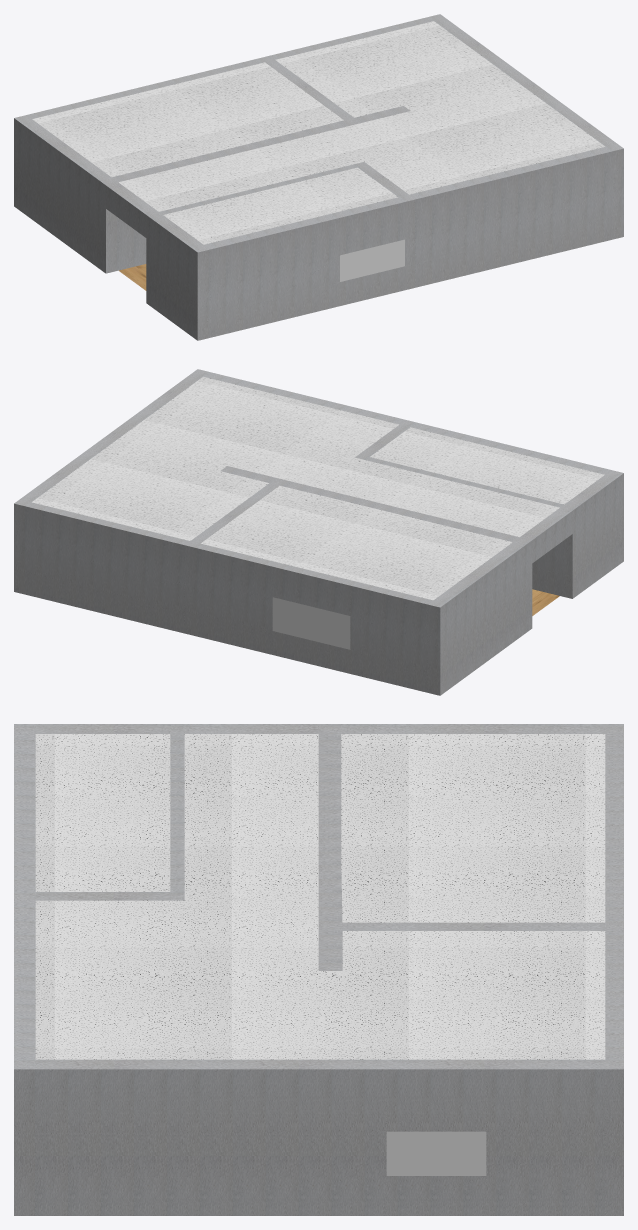
The model's file is rooms.fbx.
3 renders of one model, top to bottom at view 1: azimuth 30°, elevation 25°; view 2: azimuth 150°, elevation 25°; view 3: azimuth 270°, elevation 25°, orthographic. The views are drawn at different scales.
Visible parts, largest first — view 1: WALLS, Roof, Window Man; view 2: WALLS, Roof, Window Women; view 3: Roof, WALLS, Window Kitchen, Window Kitchen_cell.004, Window Kitchen_cell, Window Kitchen_cell.003.
Boxes of the visible parts, x1=… form: WALLS: x1=14, y1=14, x2=623, y2=340; Roof: x1=32, y1=21, x2=605, y2=244; Window Man: x1=340, y1=239, x2=404, y2=281; WALLS: x1=14, y1=369, x2=623, y2=695; Roof: x1=32, y1=376, x2=604, y2=600; Window Women: x1=272, y1=597, x2=350, y2=649; Roof: x1=35, y1=734, x2=605, y2=1059; WALLS: x1=14, y1=724, x2=623, y2=1215; Window Kitchen: x1=386, y1=1131, x2=486, y2=1175; Window Kitchen_cell.004: x1=427, y1=1131, x2=486, y2=1175; Window Kitchen_cell: x1=386, y1=1148, x2=421, y2=1175; Window Kitchen_cell.003: x1=418, y1=1140, x2=453, y2=1175.
Bounding box in the file's own units: 1362 × 270 × 1017.
4 materials, 3 textured.
